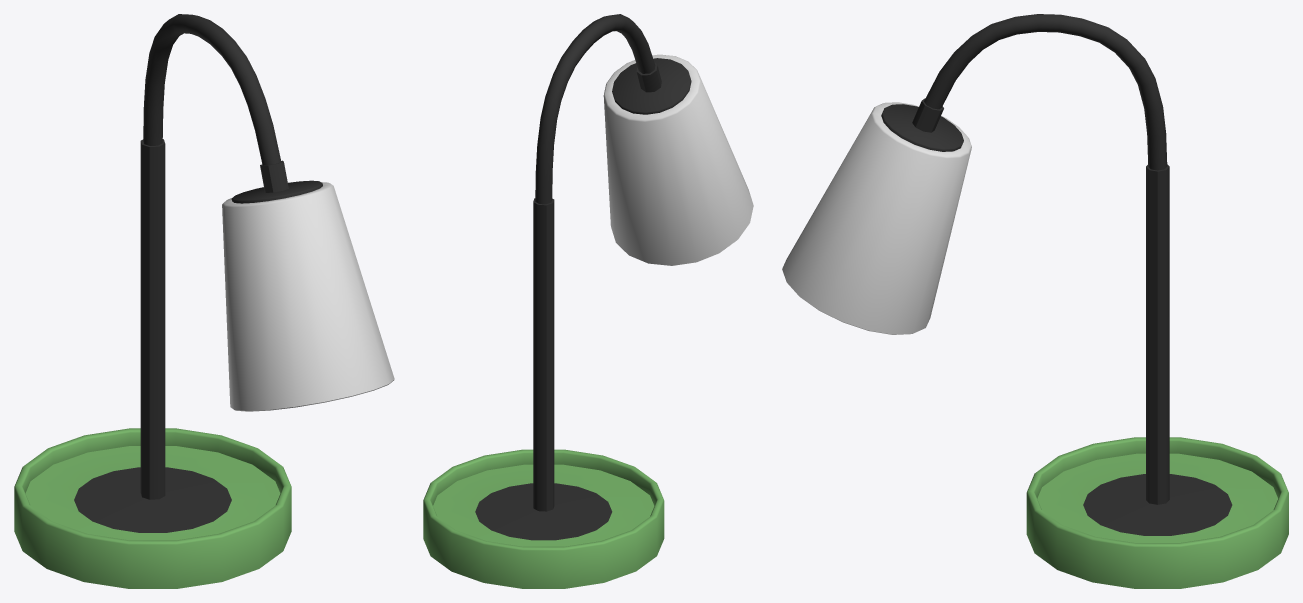
The model's file is BasiskWorkLamp.FBX.
3 renders of one model, left to right at view 1: azimuth 30°, elevation 25°; view 2: azimuth 150°, elevation 25°; view 3: azimuth 270°, elevation 25°, orthographic. The views are drawn at different scales.
Visible parts, largest first — view 1: BasiskWorkLamp; view 2: BasiskWorkLamp; view 3: BasiskWorkLamp.
Boxes of the visible parts, left/top/right/bottom form: BasiskWorkLamp: left=14, top=14, right=394, bottom=588; BasiskWorkLamp: left=423, top=14, right=753, bottom=588; BasiskWorkLamp: left=782, top=14, right=1288, bottom=588.
Size of the model in its own units: 413 by 917 by 810.
